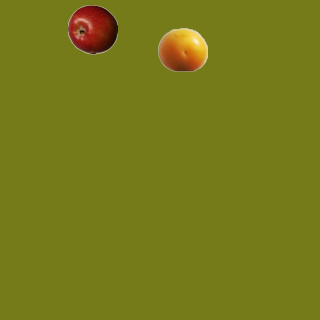Apple Braeburn: (67, 4, 117, 54)
Cherry Wax Yellow: (157, 24, 207, 74)
